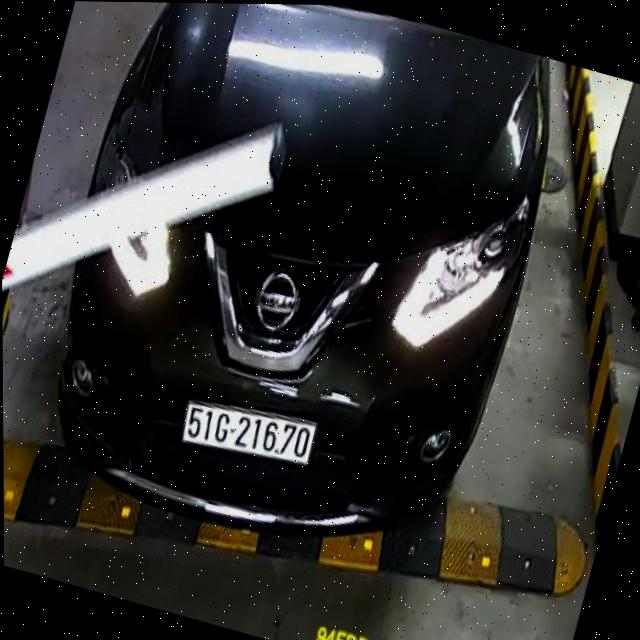car: (7, 0, 592, 600)
plate: (175, 386, 324, 480)
